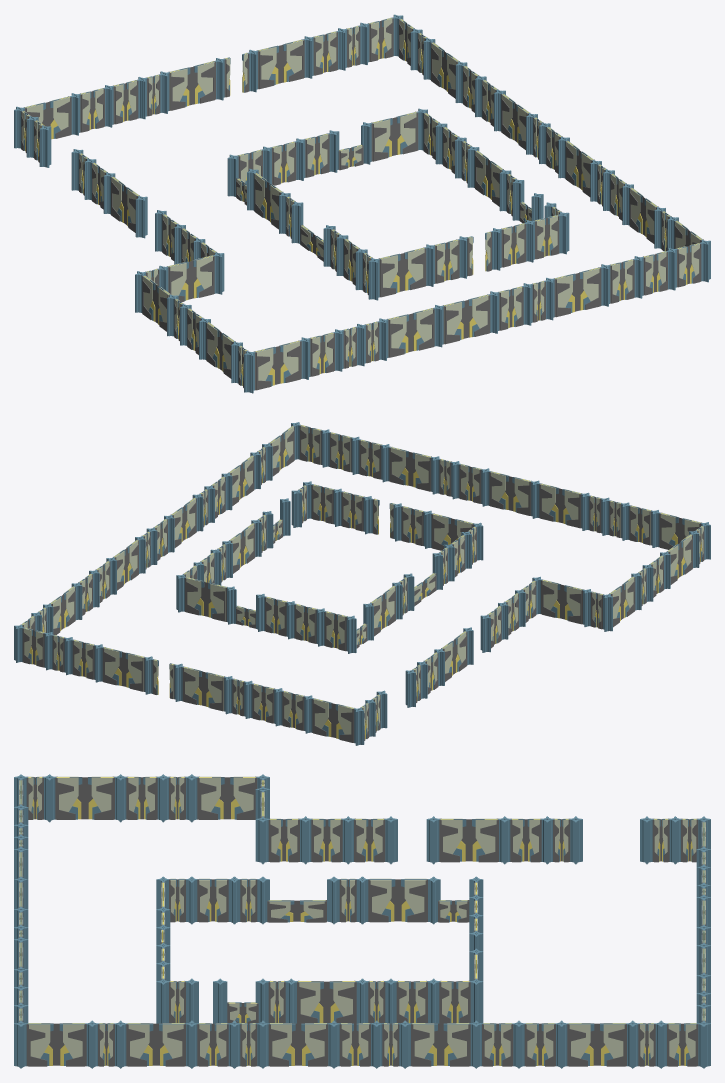
File: level3n.fbx
3 renders of one model, top to bottom at view 1: azimuth 30°, elevation 25°; view 2: azimuth 150°, elevation 25°; view 3: azimuth 270°, elevation 25°, orthographic. The views are drawn at different scales.
Visible parts, largest first — view 1: Level3; view 2: Level3; view 3: Level3.
Part boxes in pixels (x1,y1,x2,y2): Level3: [14, 14, 710, 393]; Level3: [14, 422, 710, 745]; Level3: [14, 774, 710, 1068].
Bounding box in the file's own units: 8396 × 650 × 9796.
